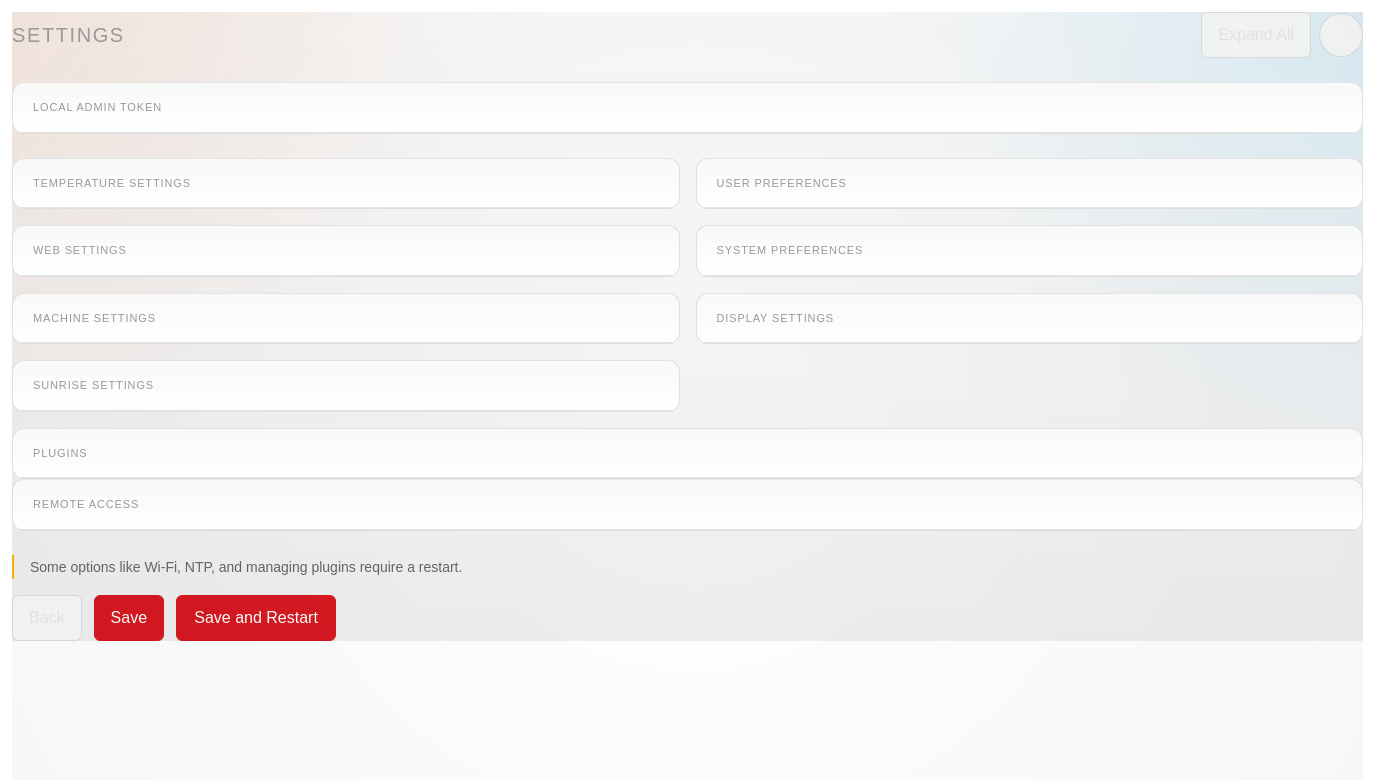
Test: Settings custom accents (PRO-643) › follows the new theme default accent after a theme change with no override
The image size is (1378, 780).
Click the button "Web Settings": (80, 250) [33,242,658,258]
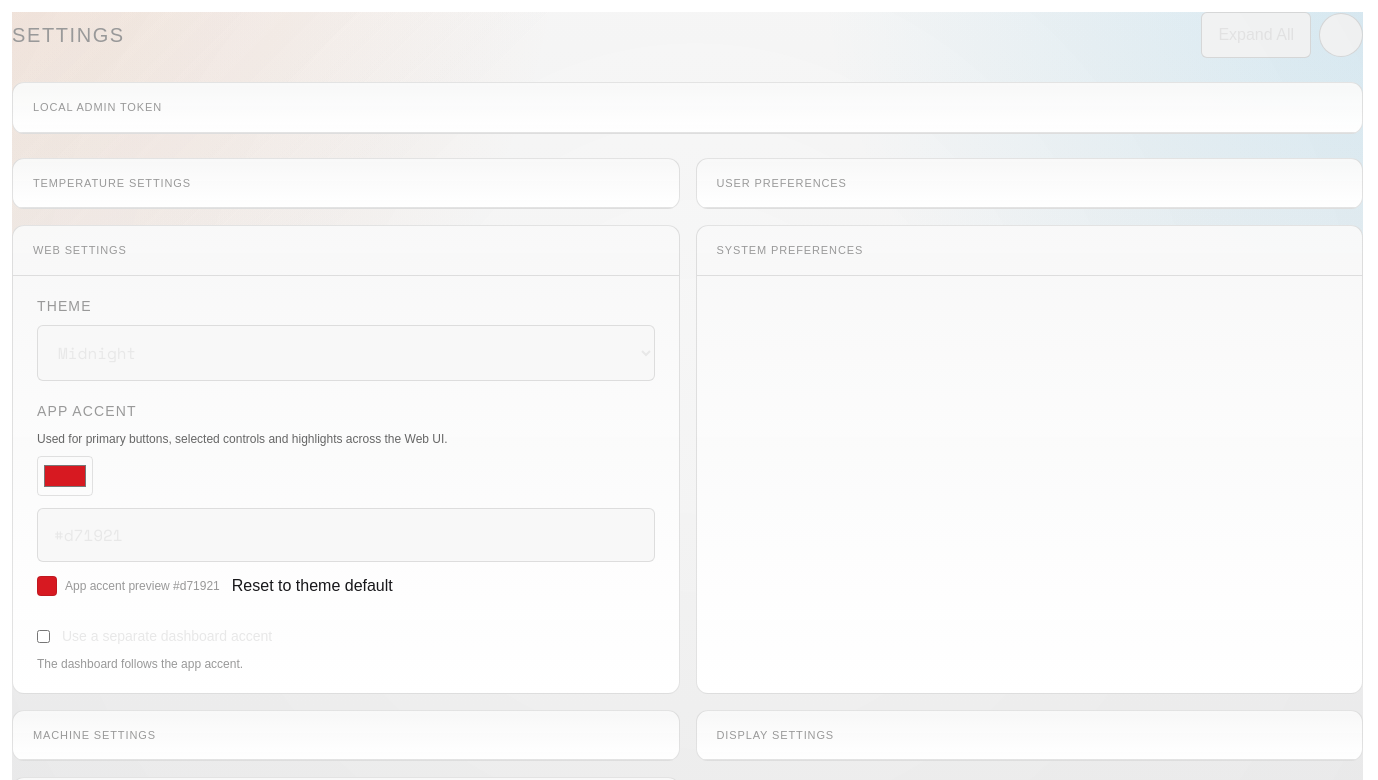
Select "Blueprint" in the dropdown labelled "Theme": (346, 352) [37,324,654,380]
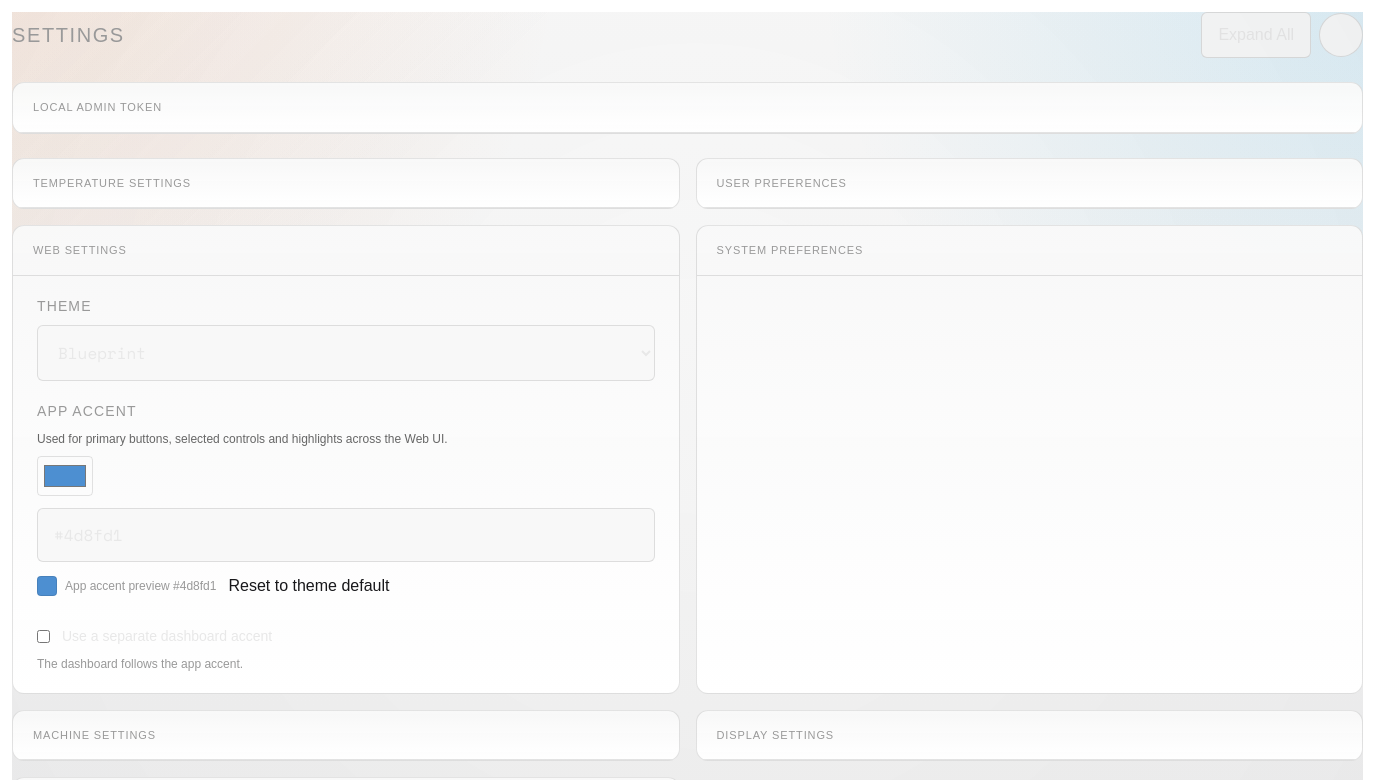
Expected: the colour field named "App accent color" holds "#4d8fd1", [37,456,93,496]
